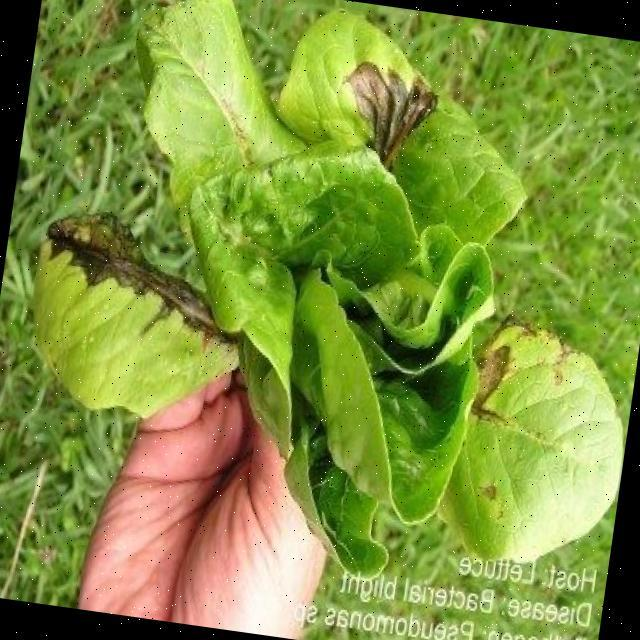Septoria_Blight: (19, 203, 265, 432), (287, 29, 492, 234)
